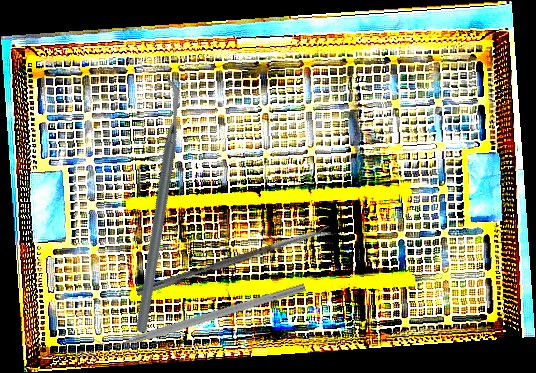Chopper: (41, 71, 271, 337), (91, 271, 307, 356)
Surgical Spoon: (135, 225, 332, 298)
